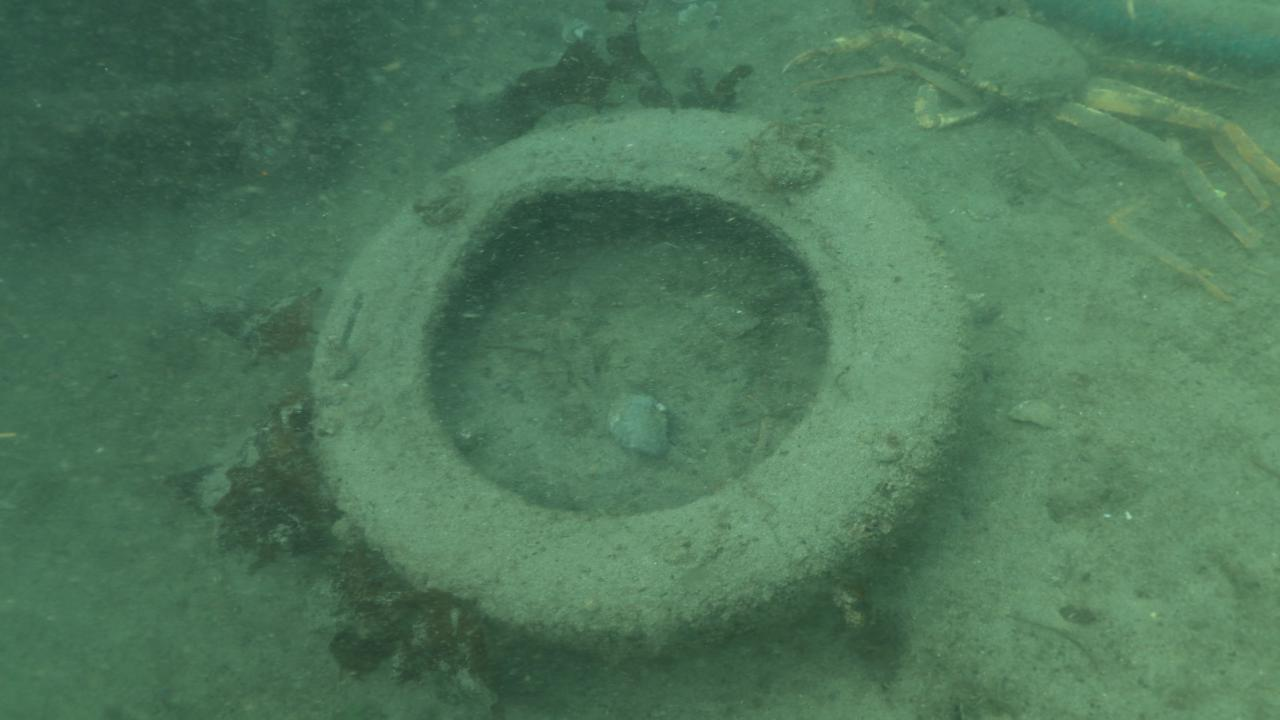tire: (309, 106, 970, 670)
